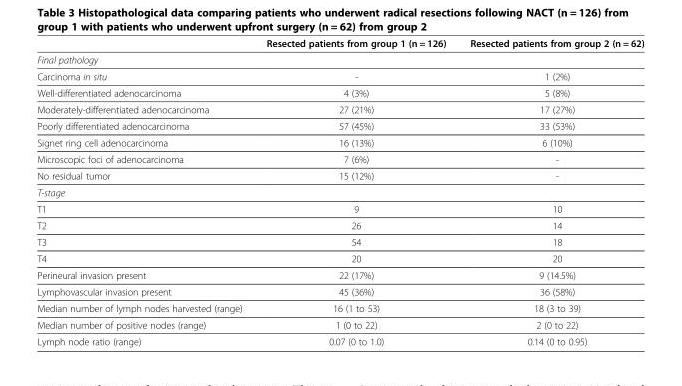table: (36, 37, 643, 346)
table column: (36, 37, 253, 346), (253, 37, 457, 346), (457, 37, 643, 346)
table column header: (36, 37, 643, 51)
table projected row header: (36, 183, 643, 200), (36, 51, 643, 67)
table row: (36, 67, 643, 84), (36, 100, 643, 117), (36, 117, 643, 134), (36, 150, 643, 167), (36, 183, 643, 200), (36, 216, 643, 233), (36, 233, 643, 250), (36, 266, 643, 283), (36, 299, 643, 316), (36, 51, 643, 67), (36, 84, 643, 100), (36, 134, 643, 150), (36, 167, 643, 183), (36, 200, 643, 216), (36, 250, 643, 266), (36, 283, 643, 299), (36, 316, 643, 332), (36, 37, 643, 51), (36, 332, 643, 346)
